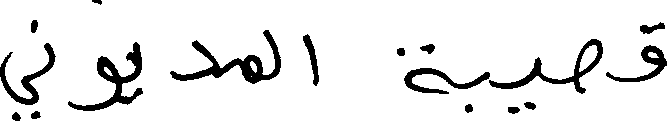ا: (301, 32, 319, 86)
ب: (461, 70, 492, 112)
ة: (393, 42, 449, 95)
د: (167, 38, 218, 81)
ص: (572, 37, 603, 95)
ق: (641, 20, 665, 82)
ل: (265, 27, 281, 80)
م: (240, 54, 262, 84)
ن: (28, 20, 55, 74)
و: (94, 54, 122, 111)
ي: (0, 50, 40, 119), (501, 54, 541, 114), (122, 39, 142, 104)
